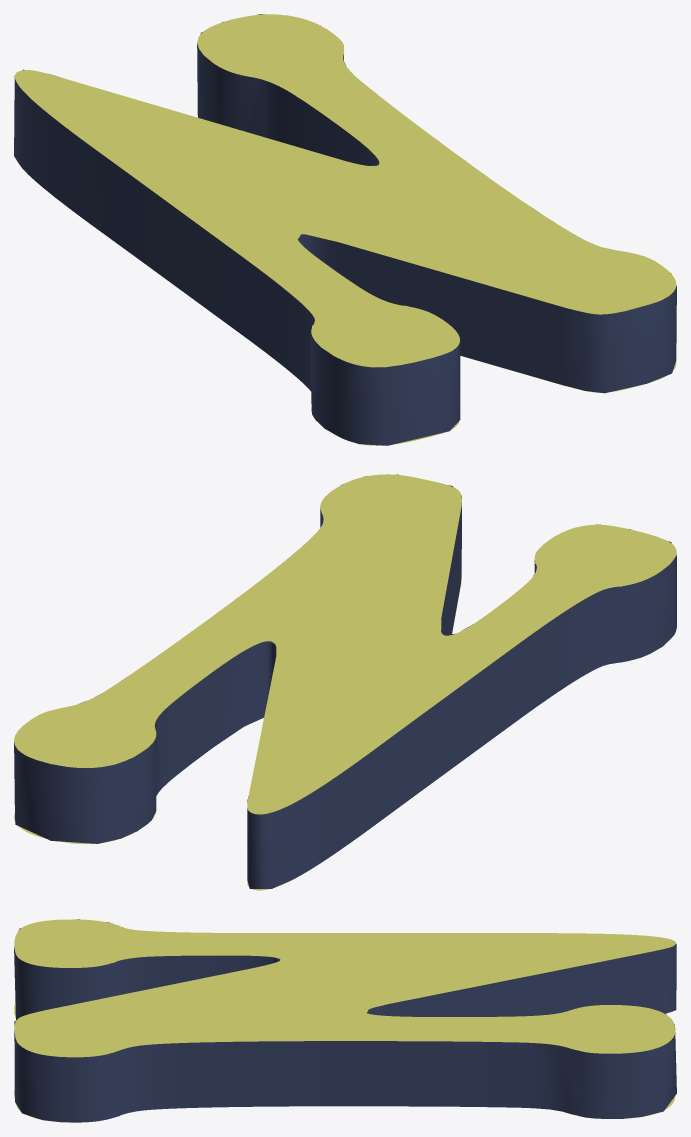
File: n_boss.fbx
3 renders of one model, top to bottom at view 1: azimuth 30°, elevation 25°; view 2: azimuth 150°, elevation 25°; view 3: azimuth 270°, elevation 25°, orthographic. The views are drawn at different scales.
Visible parts, largest first — view 1: N; view 2: N; view 3: N.
Part boxes in pixels (<box>): N: <box>14,14,676,445</box>; N: <box>14,474,676,890</box>; N: <box>14,919,676,1122</box>.
Size of the model in its own units: 0.7255 by 0.1599 by 1.47.
